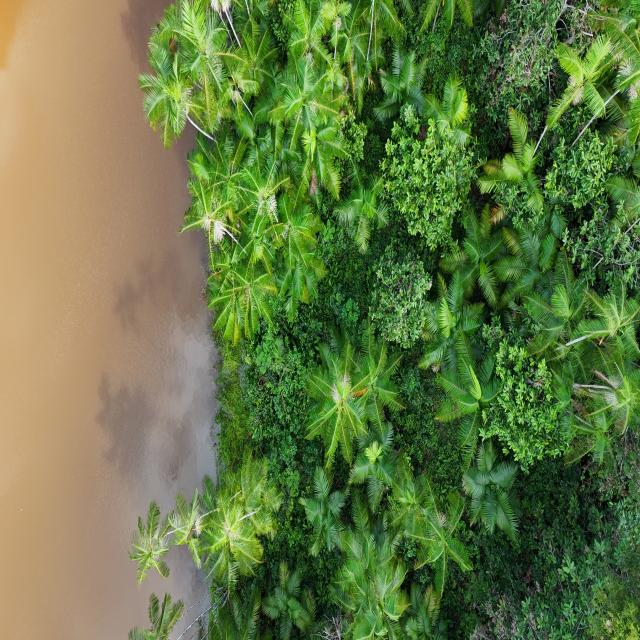vegetation: (127, 1, 638, 638)
